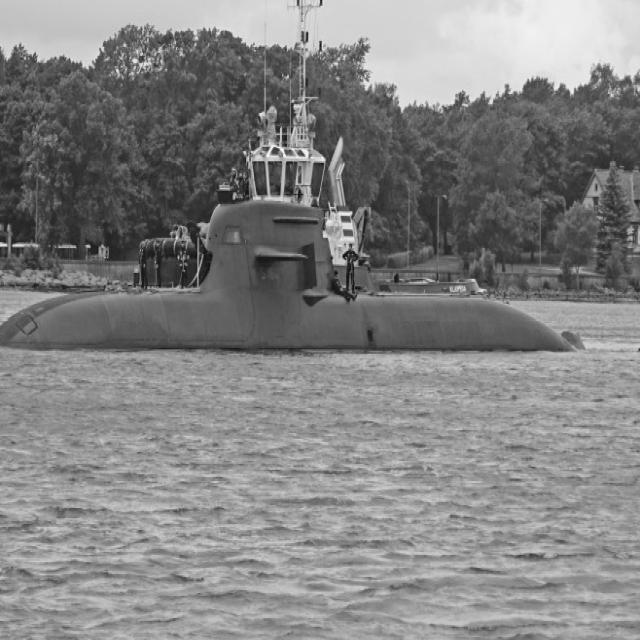submarine: (1, 198, 640, 352)
